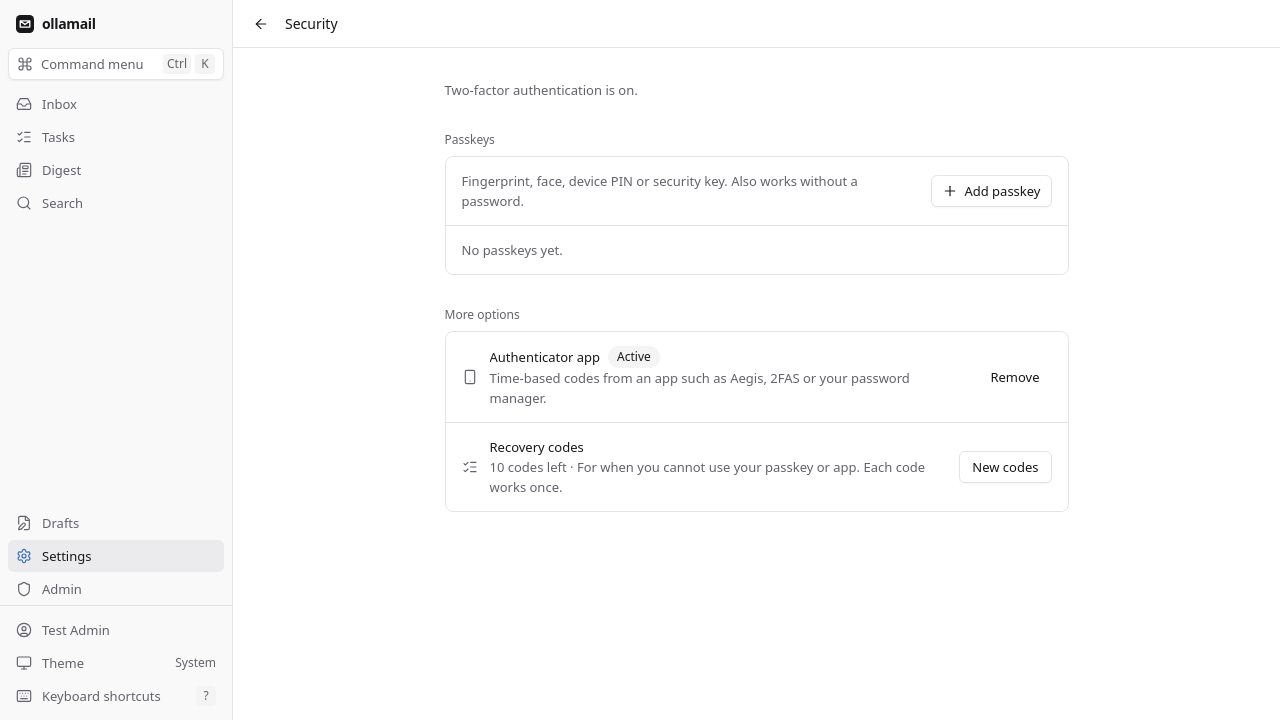
Test case: confirmation before sensitive actions › cancelling leaves everything as it was, without an error
Expected: the heading "Security" is shown, [285, 14, 338, 34]
Click the button "Remove" at (1015,377), box [978, 361, 1052, 393]
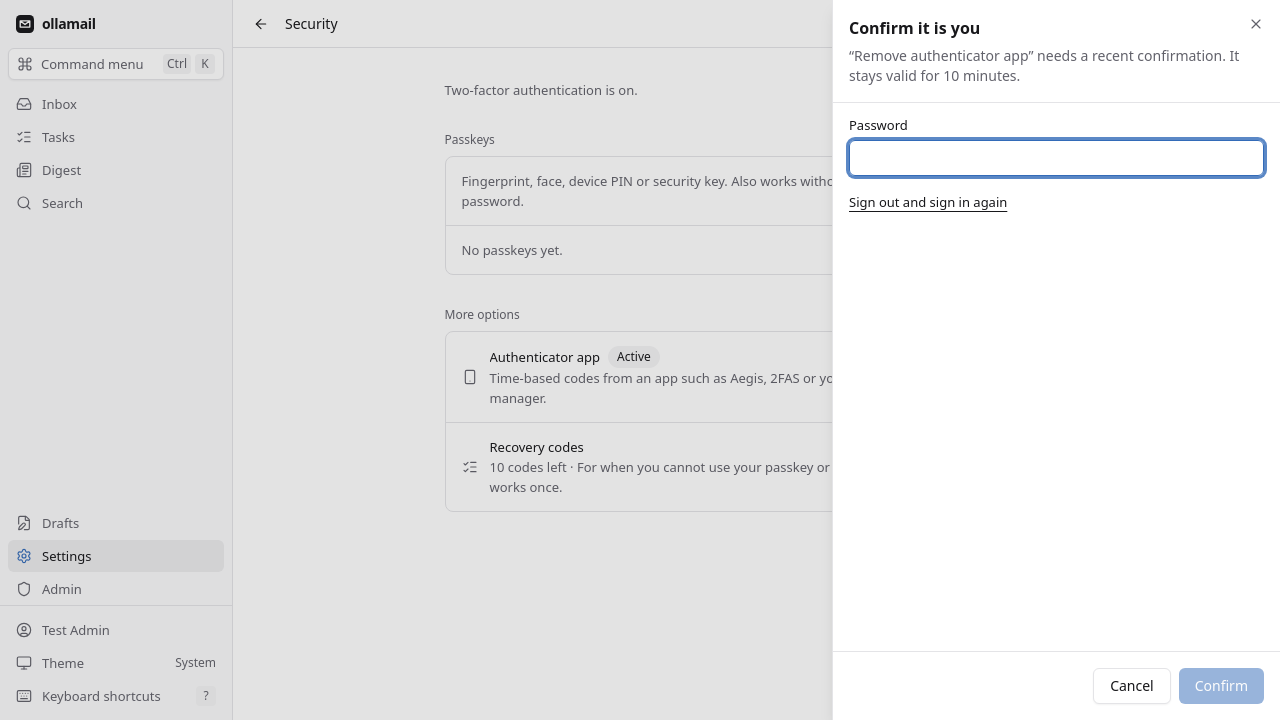
Click the button "Cancel" at (1132,686), box [1093, 668, 1171, 704]
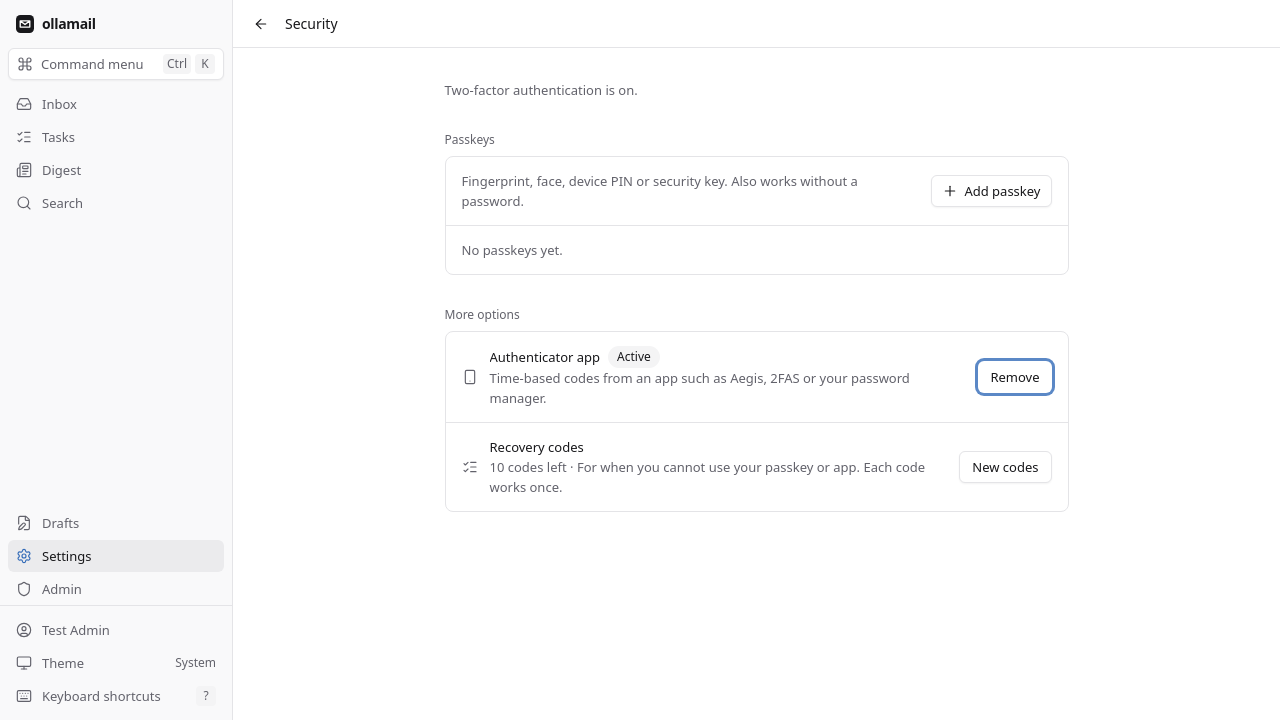
Expected: the heading "Confirm it is you" is gone
Expected: the button "Remove" is enabled, [978, 361, 1052, 393]
